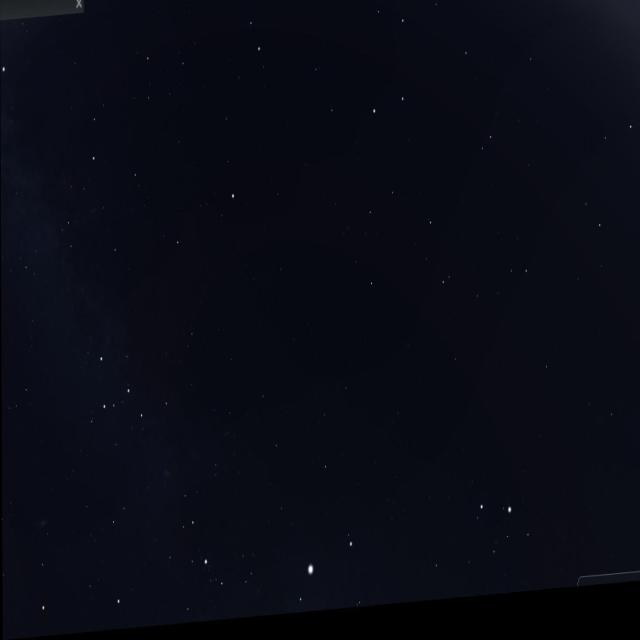ursa_major: (351, 0, 413, 124)
